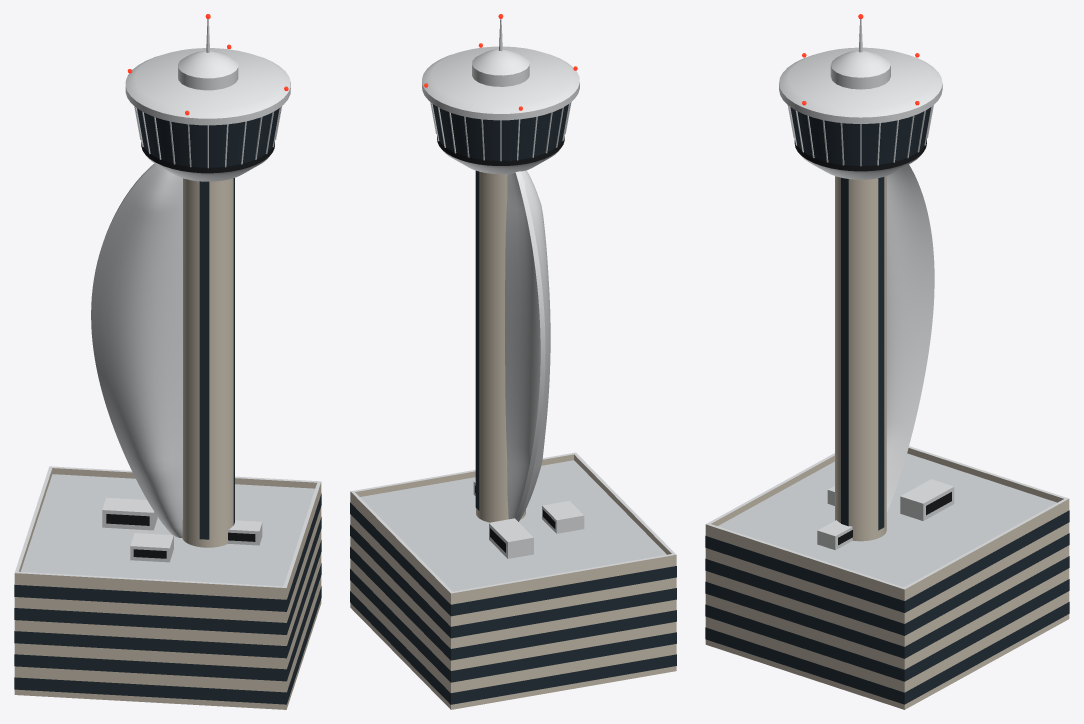
The model's file is OMAA_tower.glb.
The picture shows the model from 3 angles, left to right: view 1: azimuth 30°, elevation 25°; view 2: azimuth 150°, elevation 25°; view 3: azimuth 270°, elevation 25°; orthographic projection. The views are drawn at different scales.
Parts seen in each view (by area): view 1: ATCC_Tower, ATCC_Glazing, ATCC_Details; view 2: ATCC_Tower, ATCC_Glazing, ATCC_Details; view 3: ATCC_Tower, ATCC_Glazing, ATCC_Details.
Boxes of the visible parts, <box> form: ATCC_Tower: <box>14,19,321,709</box>; ATCC_Glazing: <box>14,108,321,704</box>; ATCC_Details: <box>102,106,282,562</box>; ATCC_Tower: <box>350,19,676,709</box>; ATCC_Glazing: <box>350,103,676,704</box>; ATCC_Details: <box>430,102,584,558</box>; ATCC_Tower: <box>705,19,1069,709</box>; ATCC_Glazing: <box>705,107,1069,704</box>; ATCC_Details: <box>787,105,954,550</box>.
Size of what is drawn, in the model's own units: 61.62 by 116 by 60.62.
